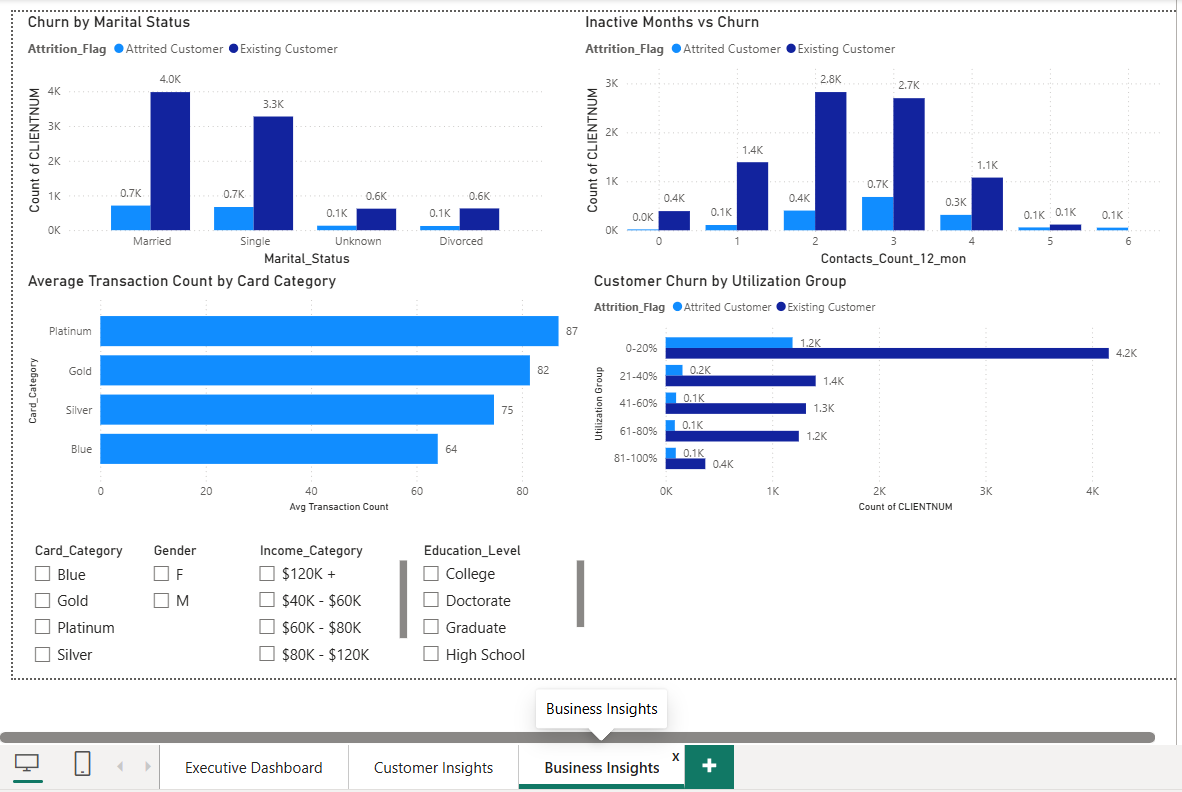

This screenshot's page, from the dashboard's own definition file:
{"tool":"powerbi","page":{"name":"Business Insights","canvas":[1280,720],"ordinal":2},"visuals":[{"type":"clusteredColumnChart","title":"Churn by Marital Status","fields":{"Category":["credit_card_churn bankchurners.Marital_Status"],"Y":["CountNonNull(credit_card_churn bankchurners.CLIENTNUM)"],"Series":["credit_card_churn bankchurners.Attrition_Flag"]},"box":[10.4,0,568.3,279.6],"z":0},{"type":"clusteredColumnChart","title":"Inactive Months vs Churn","fields":{"Category":["credit_card_churn bankchurners.Contacts_Count_12_mon"],"Y":["CountNonNull(credit_card_churn bankchurners.CLIENTNUM)"],"Series":["credit_card_churn bankchurners.Attrition_Flag"]},"box":[613.5,0,631.1,279.7],"z":1000},{"type":"slicer","fields":{"Values":["credit_card_churn bankchurners.Card_Category"]},"box":[10.4,569.6,129.5,150.2],"z":2000},{"type":"slicer","fields":{"Values":["credit_card_churn bankchurners.Gender"]},"box":[139.8,569.6,113.9,150.2],"z":3000},{"type":"slicer","fields":{"Values":["credit_card_churn bankchurners.Income_Category"]},"box":[253.7,569.6,177.3,150.2],"z":4000},{"type":"slicer","fields":{"Values":["credit_card_churn bankchurners.Education_Level"]},"box":[431.1,569.6,191.6,150.2],"z":5000},{"type":"clusteredBarChart","title":"Average Transaction Count by Card Category","fields":{"Category":["credit_card_churn bankchurners.Card_Category"],"Y":["credit_card_churn bankchurners.Avg Transaction Count"]},"box":[10.8,279.7,612.2,266.2],"z":6000},{"type":"clusteredBarChart","title":"Customer Churn by Utilization Group","fields":{"Category":["credit_card_churn bankchurners.Utilization Group"],"Y":["CountNonNull(credit_card_churn bankchurners.CLIENTNUM)"],"Series":["credit_card_churn bankchurners.Attrition_Flag"]},"box":[623,279.7,613.5,266.2],"z":7000}]}

Visuals, with their boxes on the page's 1280x720 design canvas (x1, y1, x2, y2). These are canvas units, not pixel positions in the 1182x792 screenshot, which may show the page scaled, cropped or inside an application window:
"Churn by Marital Status" clusteredColumnChart: [left=10, top=0, right=579, bottom=280]
"Inactive Months vs Churn" clusteredColumnChart: [left=614, top=0, right=1245, bottom=280]
slicer - credit_card_churn bankchurners.Card_Category: [left=10, top=570, right=140, bottom=720]
slicer - credit_card_churn bankchurners.Gender: [left=140, top=570, right=254, bottom=720]
slicer - credit_card_churn bankchurners.Income_Category: [left=254, top=570, right=431, bottom=720]
slicer - credit_card_churn bankchurners.Education_Level: [left=431, top=570, right=623, bottom=720]
"Average Transaction Count by Card Category" clusteredBarChart: [left=11, top=280, right=623, bottom=546]
"Customer Churn by Utilization Group" clusteredBarChart: [left=623, top=280, right=1236, bottom=546]
